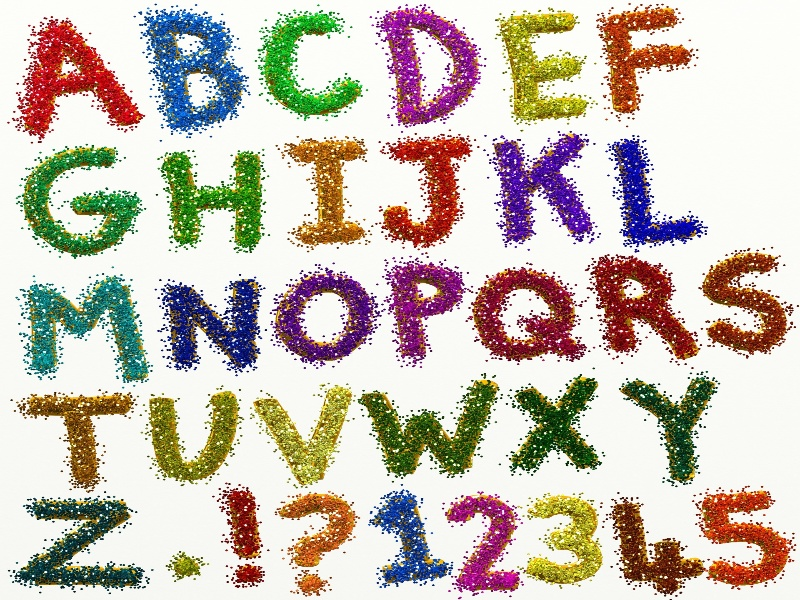letters: (17, 7, 150, 135), (257, 3, 368, 131), (25, 271, 151, 383), (143, 8, 253, 135), (20, 140, 139, 254), (362, 378, 502, 474), (371, 8, 485, 120), (17, 500, 139, 598), (600, 6, 700, 125), (592, 254, 699, 364), (610, 133, 714, 246), (620, 372, 724, 484), (12, 389, 131, 485), (494, 131, 594, 244), (384, 129, 478, 247), (473, 275, 591, 367), (499, 10, 594, 124), (165, 270, 265, 373), (519, 370, 604, 490), (254, 377, 354, 479), (164, 145, 262, 249), (387, 260, 478, 372), (702, 247, 790, 357), (143, 387, 242, 482), (271, 272, 376, 361), (289, 135, 365, 247)
